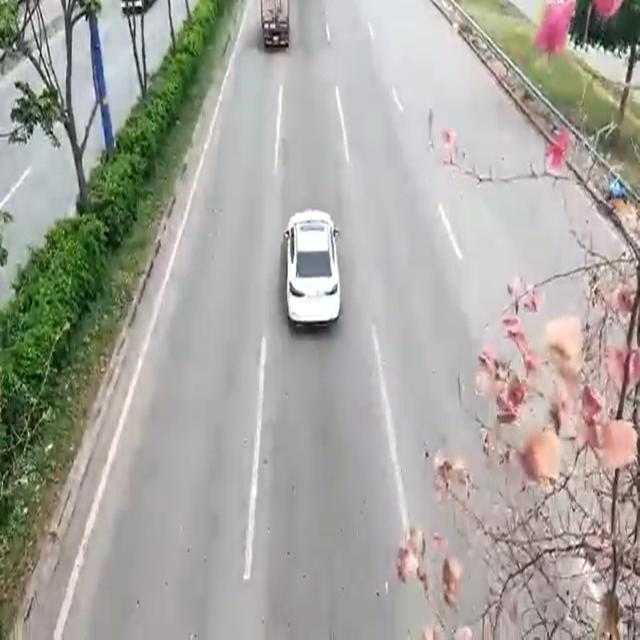car: (290, 212, 336, 326)
truck: (262, 2, 287, 52)
